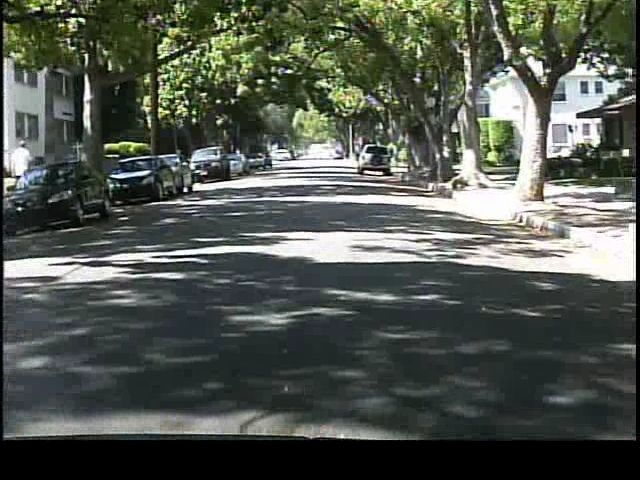person: (10, 138, 38, 206)
